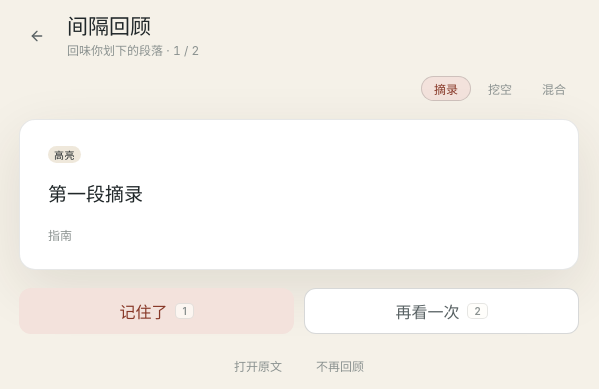
Scenario: ReviewView cards (R1) › skips the card silently when the outcome write fails
Click the button "记住了 1".
click(156, 311)  # box [19, 288, 294, 334]
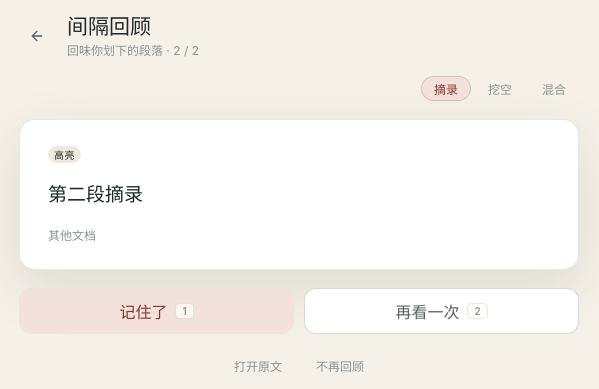
Result: the text "第二段摘录" is shown at [48, 184, 143, 205]
Click the button "记住了 1".
click(156, 311)  # box [19, 288, 294, 334]
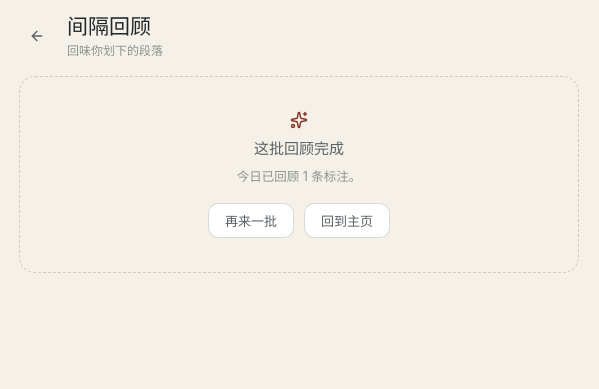
Result: the text "这批回顾完成" is shown at [254, 137, 344, 158]
Result: the text "今日已回顾 1 条标注。" is shown at [237, 166, 361, 188]
